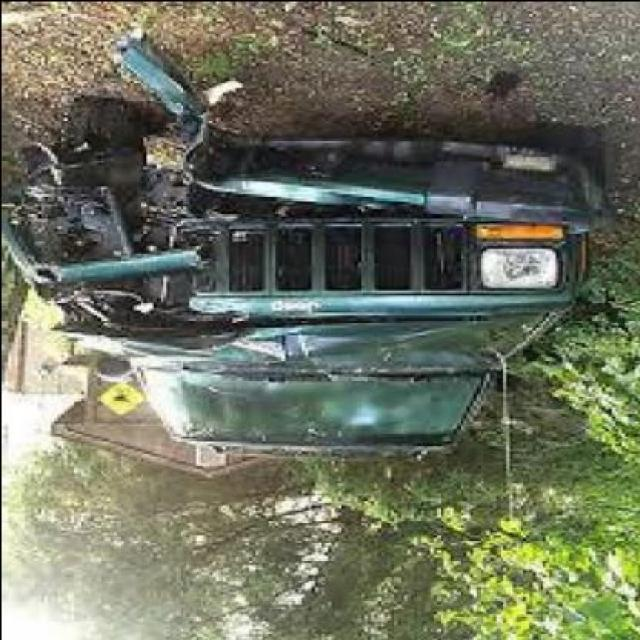damage: (0, 23, 426, 376)
